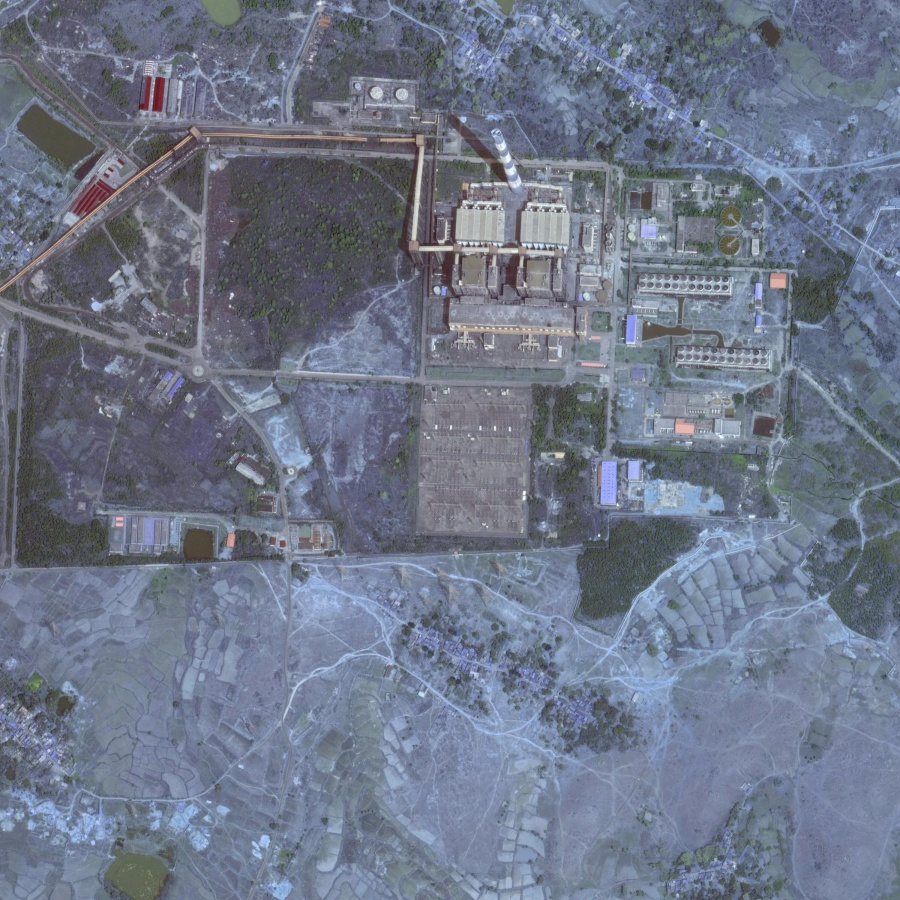PowerPlant: (422, 89, 576, 222)
